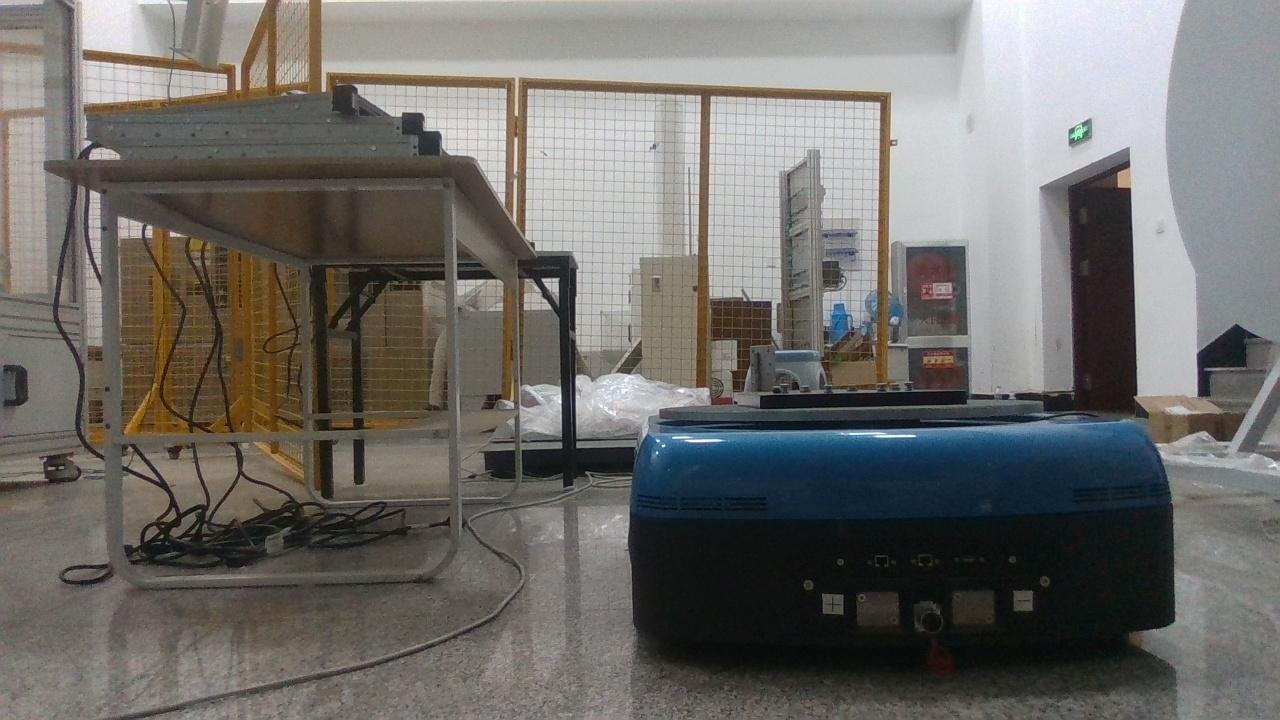AGV: (628, 390, 1176, 675)
